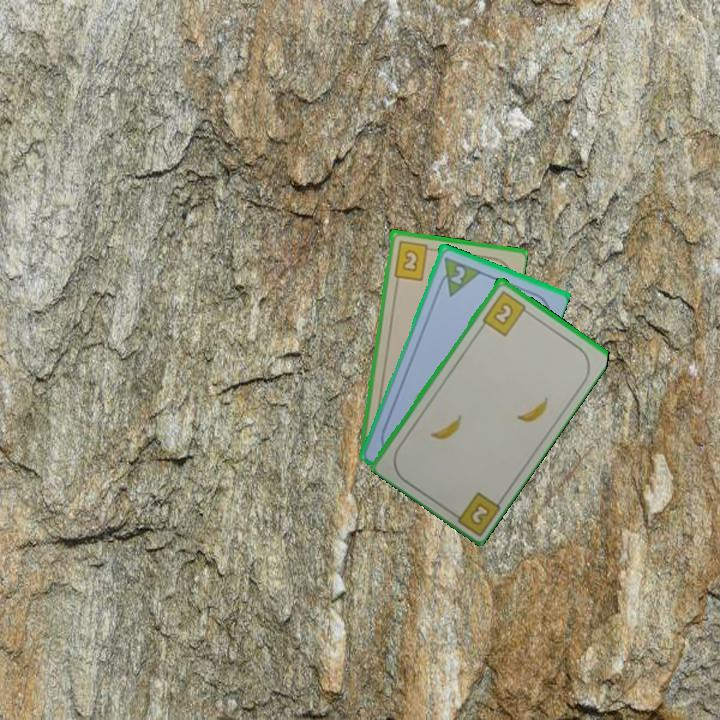2b: (478, 287, 533, 339), (446, 488, 503, 536), (390, 237, 436, 283)
2p: (433, 253, 482, 299)
